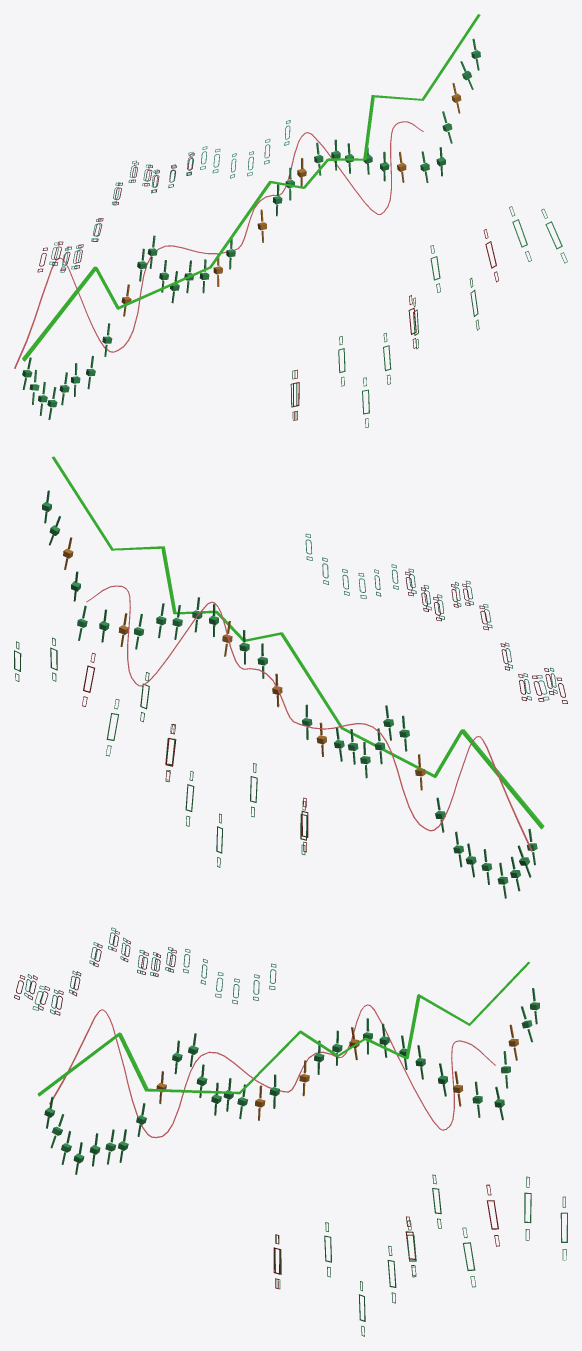
File: chart5.glb
3 renders of one model, top to bottom at view 1: azimuth 30°, elevation 25°; view 2: azimuth 150°, elevation 25°; view 3: azimuth 330°, elevation 25°, orthographic. The views are drawn at different scales.
Visible parts, largest first — view 1: Line, RoundLine; view 2: Line, RoundLine; view 3: Line, RoundLine.
Boxes of the visible parts, x1,y1,x2,y2 form: Line: (22,14,480,361); RoundLine: (14,121,423,368); Line: (51,456,544,829); RoundLine: (86,585,532,851); Line: (37,961,529,1096); RoundLine: (49,1004,495,1138).
Size of the model in its own units: 66.37 by 44.37 by 8.73.
